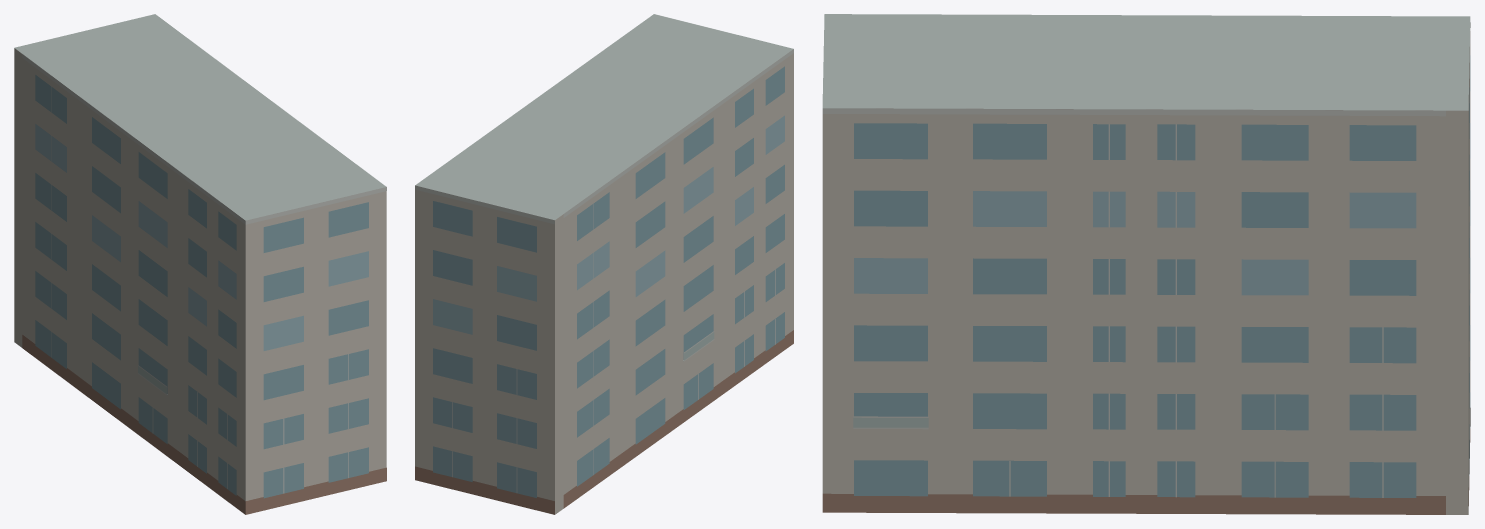
Rendered from survey-upis-33044485.glb.
3 views of the same model, side by side, from view 1: azimuth 30°, elevation 25°; view 2: azimuth 150°, elevation 25°; view 3: azimuth 270°, elevation 25° (orthographic). The views are drawn at different scales.
Parts seen in each view (by area): view 1: survey-upis-33044485.tmp; view 2: survey-upis-33044485.tmp; view 3: survey-upis-33044485.tmp.
Part boxes in pixels (x1,y1,x2,y2): survey-upis-33044485.tmp: (14, 14, 386, 514); survey-upis-33044485.tmp: (415, 14, 793, 514); survey-upis-33044485.tmp: (822, 14, 1470, 514).
Size of the model in its own units: 8.92 by 17.4 by 25.28.
